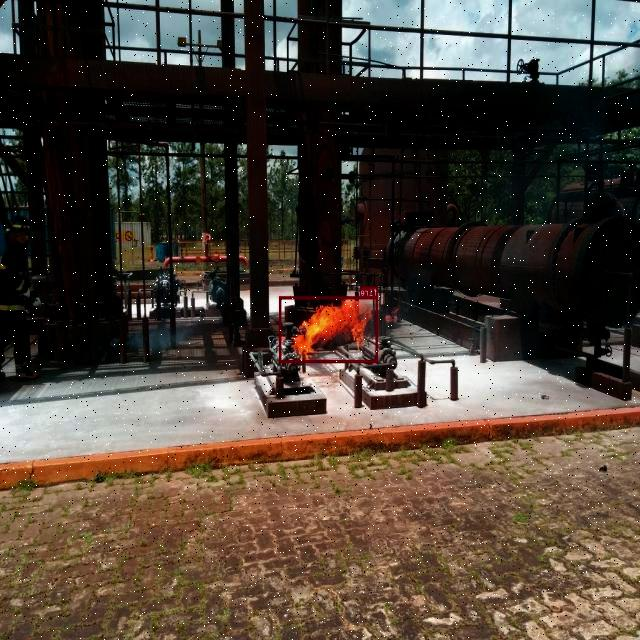fire: (280, 296, 378, 362)
